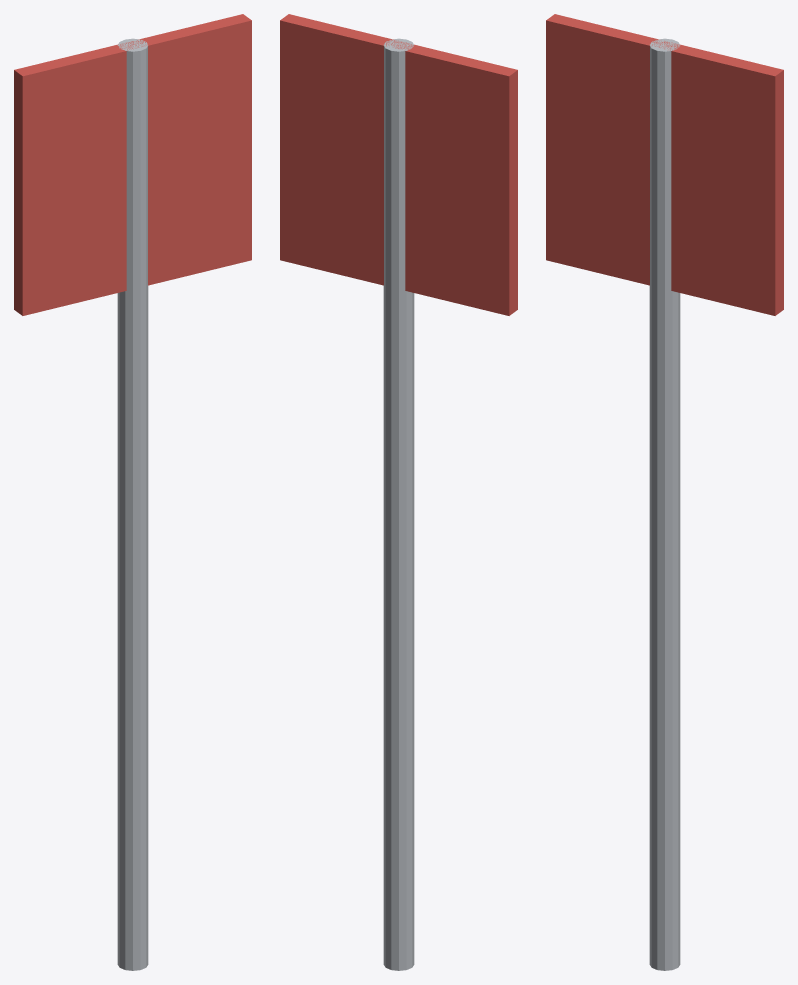
The model's file is trafsign.glb.
3 renders of one model, left to right at view 1: azimuth 30°, elevation 25°; view 2: azimuth 150°, elevation 25°; view 3: azimuth 330°, elevation 25°, orthographic.
Visible parts, largest first — view 1: trafsign_panel, trafsign_pole; view 2: trafsign_panel, trafsign_pole; view 3: trafsign_panel, trafsign_pole.
Boxes of the visible parts, <box> form: trafsign_panel: <box>14,14,251,315</box>; trafsign_pole: <box>117,38,148,970</box>; trafsign_panel: <box>280,14,517,315</box>; trafsign_pole: <box>383,38,414,970</box>; trafsign_panel: <box>546,14,783,315</box>; trafsign_pole: <box>649,38,680,970</box>.
Size of the model in its own units: 0.6 by 2.3 by 0.07.
